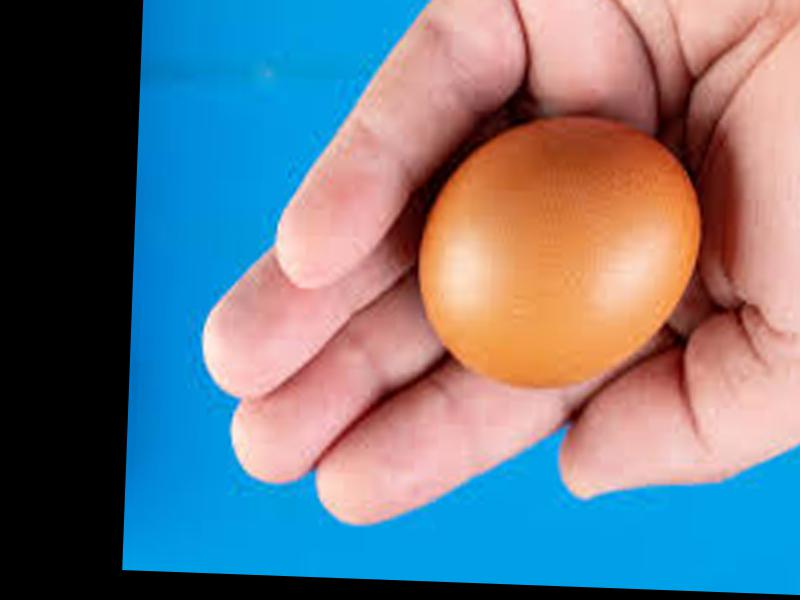Eggs: (410, 117, 702, 393)
